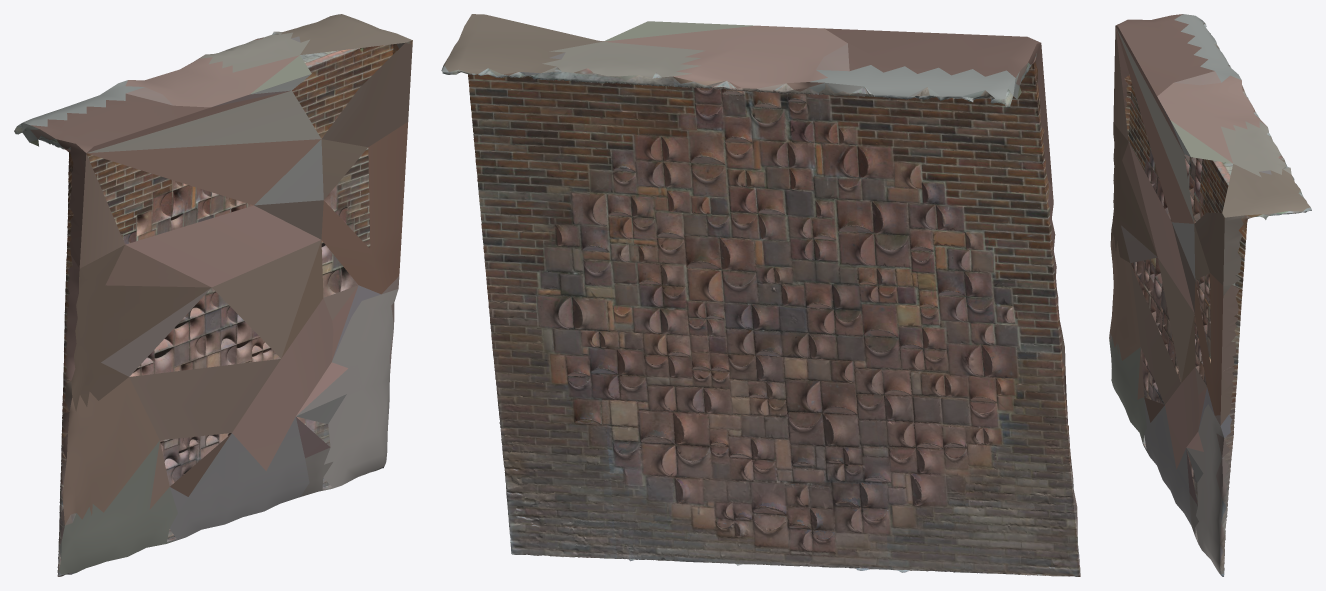
File: ceramic_mosaic_relief_stribrnicka_school.glb
3 renders of one model, left to right at view 1: azimuth 30°, elevation 25°; view 2: azimuth 150°, elevation 25°; view 3: azimuth 270°, elevation 25°, orthographic. The views are drawn at different scales.
Parts seen in each view (by area): view 1: meshNode_Material_u1_v1_0; view 2: meshNode_Material_u1_v1_0; view 3: meshNode_Material_u1_v1_0.
Part boxes in pixels (box(x1,y1,x2,y2)): meshNode_Material_u1_v1_0: box(14, 14, 412, 576); meshNode_Material_u1_v1_0: box(441, 14, 1080, 576); meshNode_Material_u1_v1_0: box(1109, 14, 1311, 576).
Size of the model in its own units: 56.78 by 58.63 by 26.87.
1 material, 1 textured.
